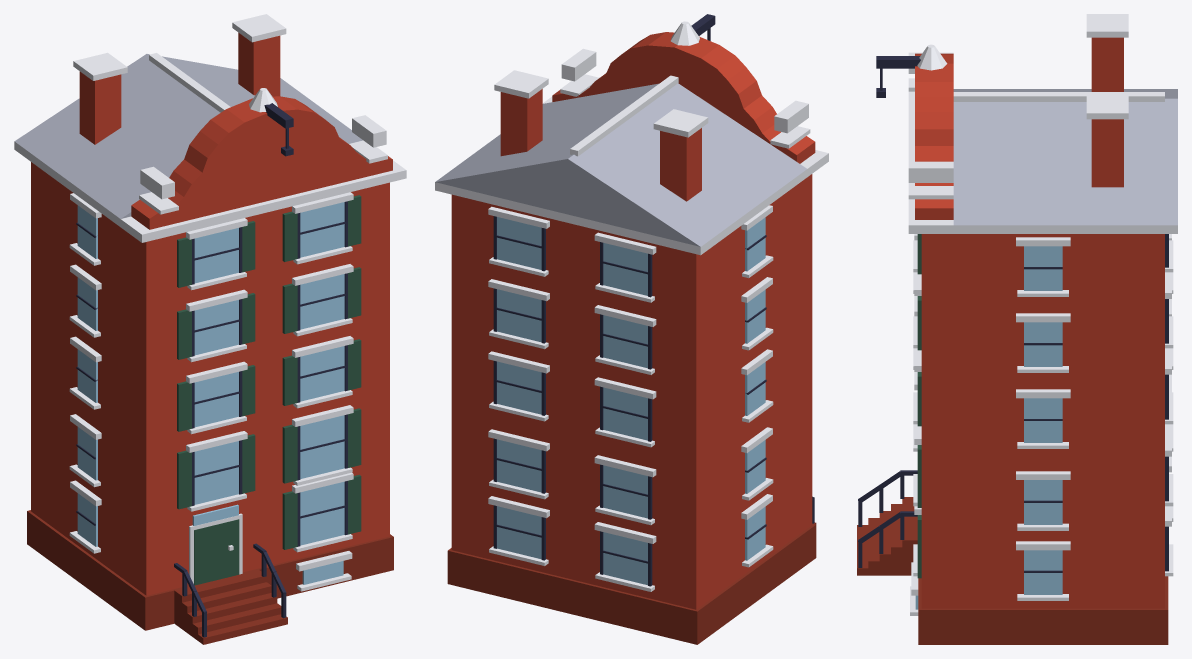
The model's file is house-1x1-5f-dutch-a.glb.
3 views of the same model, side by side, from view 1: azimuth 30°, elevation 25°; view 2: azimuth 150°, elevation 25°; view 3: azimuth 270°, elevation 25° (orthographic). The views are drawn at different scales.
Parts seen in each view (by area): view 1: house-1x1-5f-dutch-a; view 2: house-1x1-5f-dutch-a; view 3: house-1x1-5f-dutch-a.
Boxes of the visible parts, x1=… form: house-1x1-5f-dutch-a: x1=14, y1=14, x2=406, y2=644; house-1x1-5f-dutch-a: x1=435, y1=14, x2=828, y2=644; house-1x1-5f-dutch-a: x1=857, y1=14, x2=1177, y2=644.
Bounding box in the file's own units: 1 × 1.83 × 0.995.
1 material, 1 textured.
